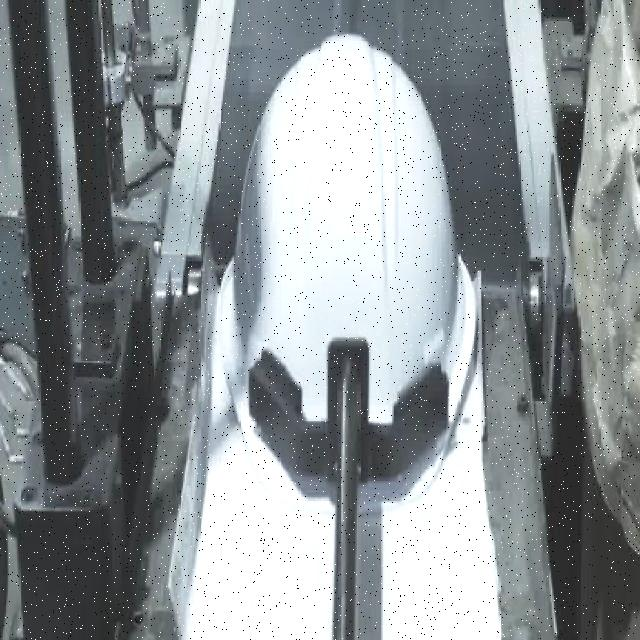Helmet: (214, 32, 480, 510)
